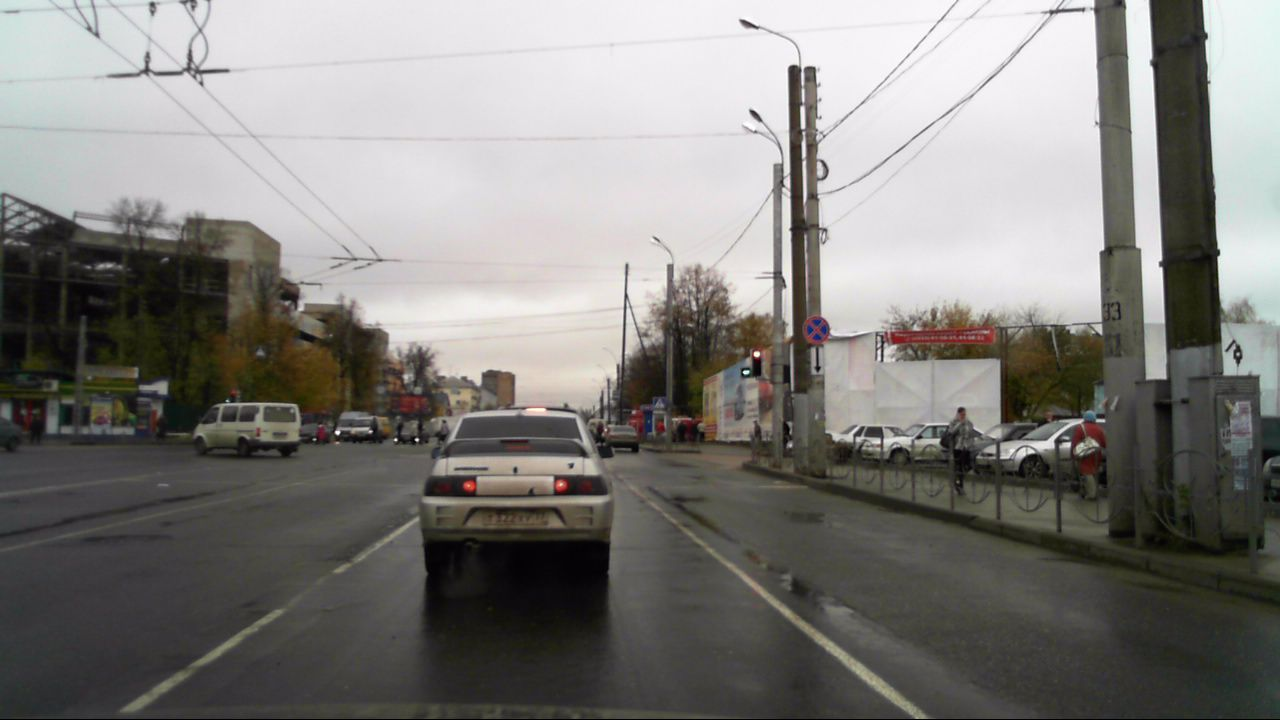No Parking: (802, 315, 830, 344)
